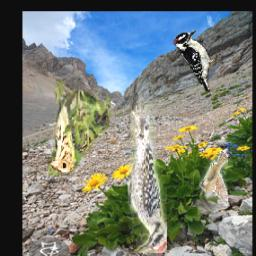Sparrow: (48, 82, 110, 176), (199, 151, 228, 207)
Woodpecker: (128, 80, 167, 254), (174, 31, 225, 93)
